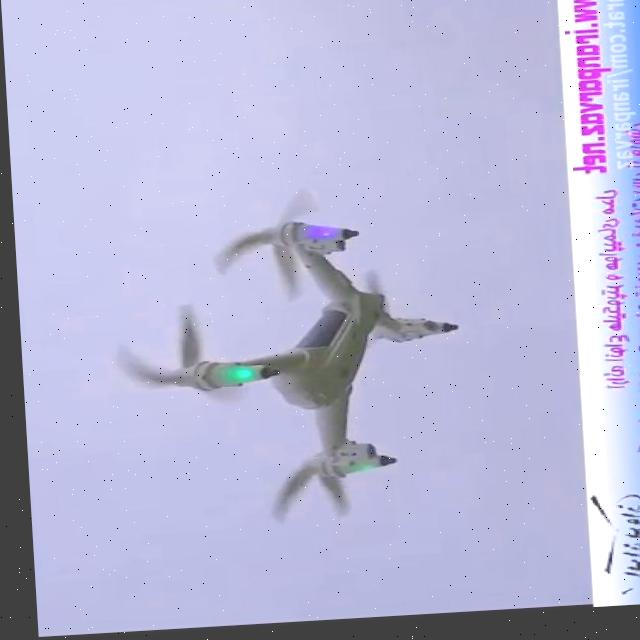drone: (87, 179, 473, 541)
